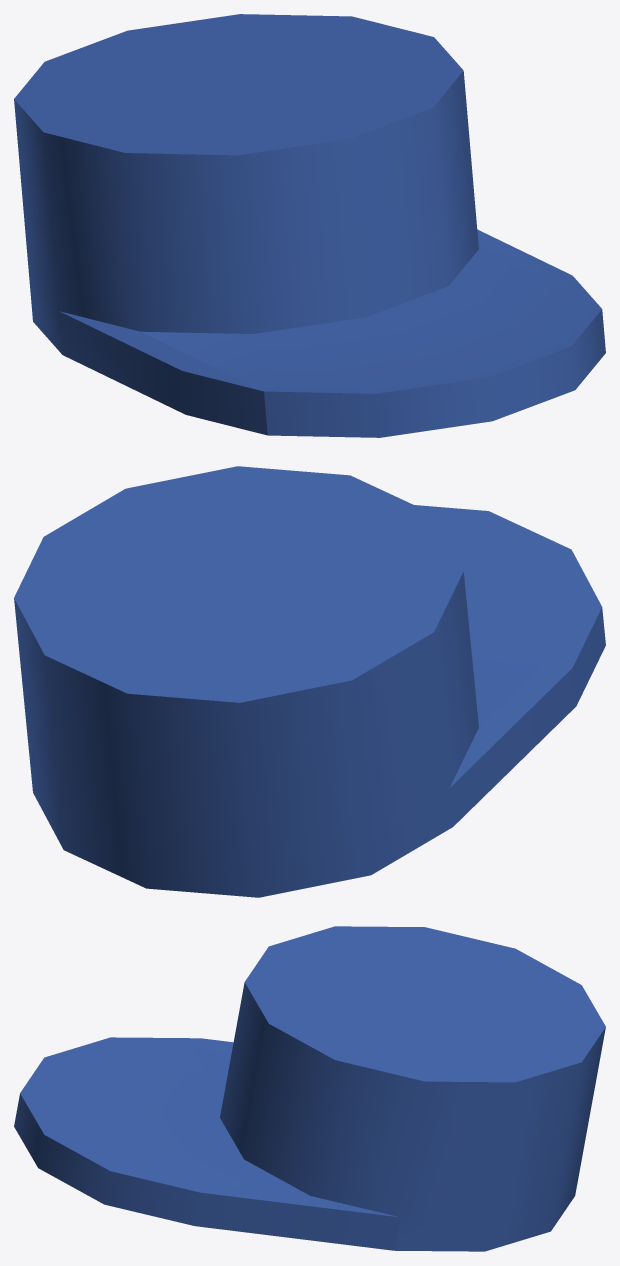
Rendered from Hat_01.fbx.
3 views of the same model, one above another, from view 1: azimuth 30°, elevation 25°; view 2: azimuth 150°, elevation 25°; view 3: azimuth 270°, elevation 25° (orthographic). The views are drawn at different scales.
Parts seen in each view (by area): view 1: Hat_01; view 2: Hat_01; view 3: Hat_01.
Boxes of the visible parts, bbox=[...] form: Hat_01: bbox=[14, 14, 605, 437]; Hat_01: bbox=[14, 466, 605, 897]; Hat_01: bbox=[14, 926, 605, 1251].
Size of the model in its own units: 45.7 by 29.51 by 74.03.
